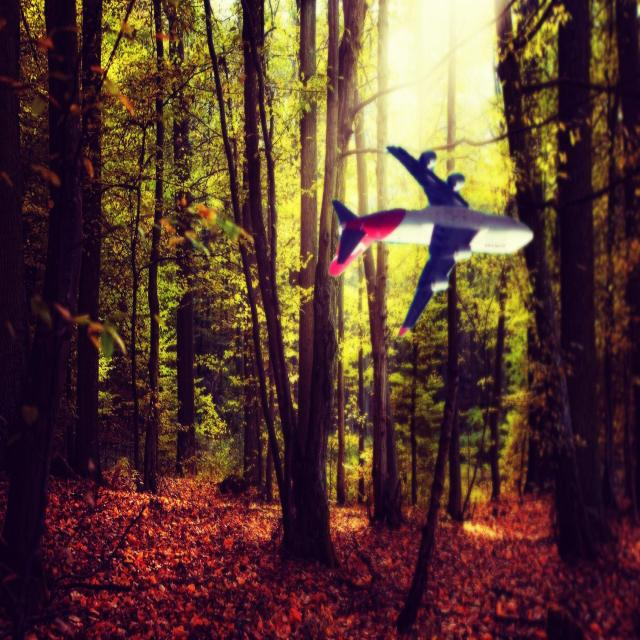airplane: (328, 143, 534, 338)
